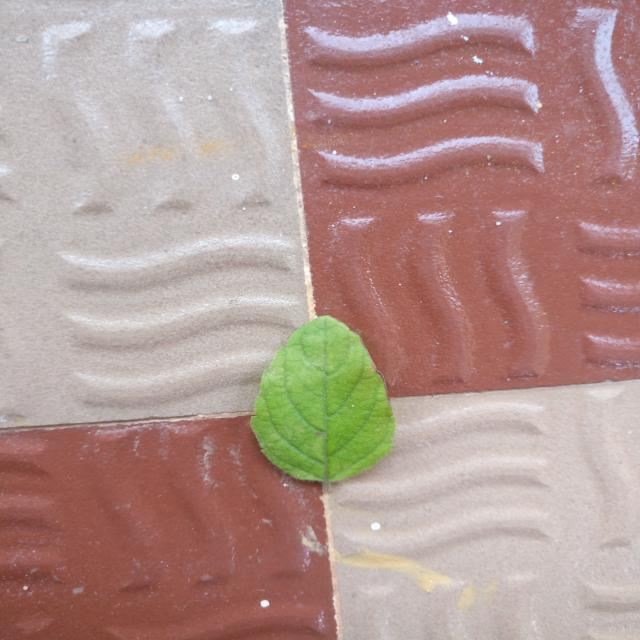tulsi: (252, 316, 395, 481)
